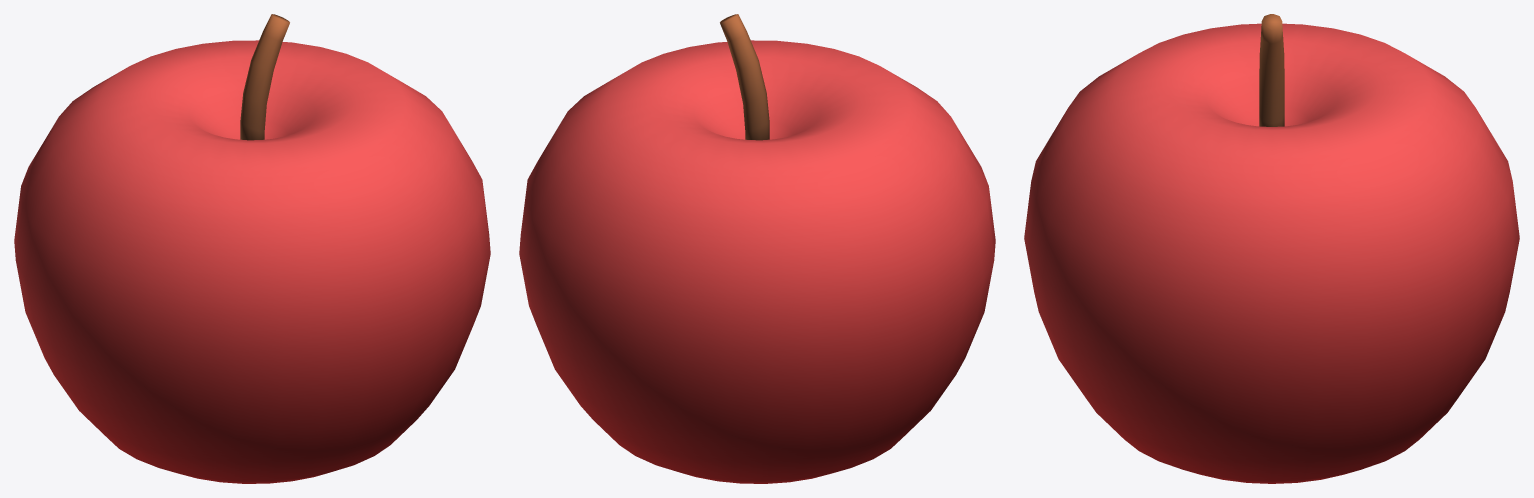
The model's file is Apple.fbx.
3 renders of one model, left to right at view 1: azimuth 30°, elevation 25°; view 2: azimuth 150°, elevation 25°; view 3: azimuth 270°, elevation 25°, orthographic. The views are drawn at different scales.
Parts seen in each view (by area): view 1: Apple 2; view 2: Apple 2; view 3: Apple 2.
Boxes of the visible parts, x1=… form: Apple 2: x1=14, y1=14, x2=490, y2=483; Apple 2: x1=519, y1=14, x2=995, y2=483; Apple 2: x1=1024, y1=14, x2=1519, y2=483.
Bounding box in the file's own units: 10.87 × 10.32 × 10.87.
